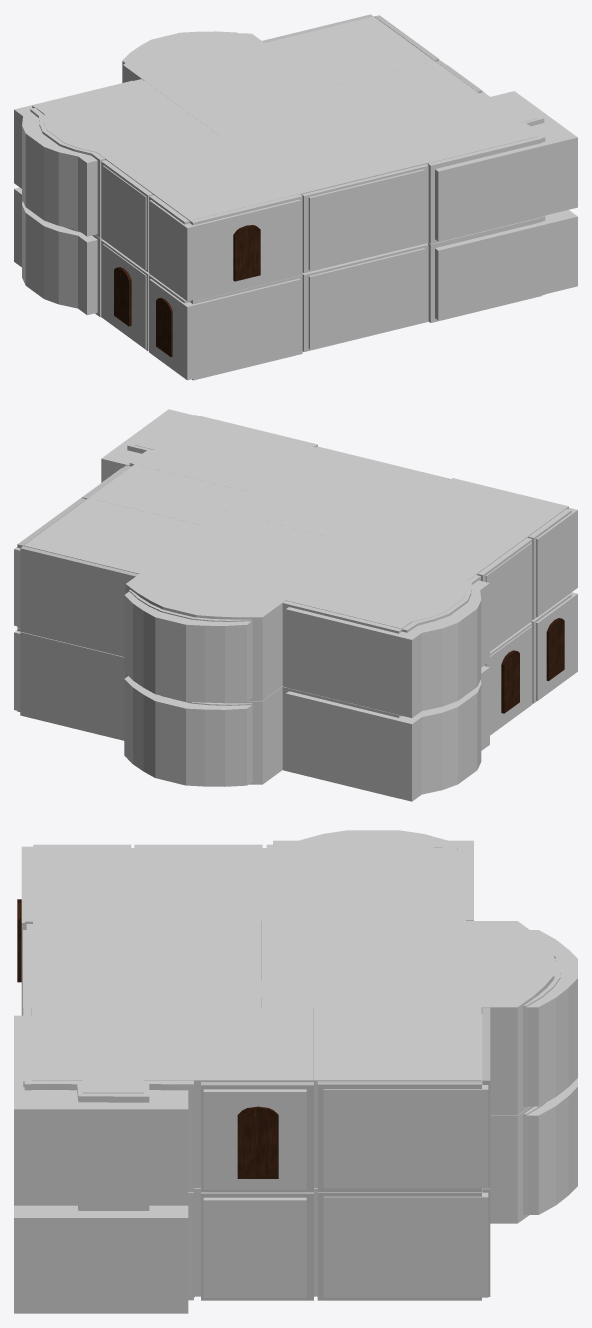
File: dom z dziurami na okna drzwi i schody.fbx
3 renders of one model, top to bottom at view 1: azimuth 30°, elevation 25°; view 2: azimuth 150°, elevation 25°; view 3: azimuth 270°, elevation 25°, orthographic. The views are drawn at different scales.
Visible parts, largest first — view 1: Salon.001, Bathroom hole (always inactive).001, Corridor.001, Bathroom hole (always inactive), Maids room hole (always inactive), Maids room hole (always inactive).001, Corridor hole (always inactive), Corridor hole (always inactive).001, Dining room.001, Dining hole (always inactive).001, Bathroom.001, Kitchen.001 (+20 smaller); view 2: Salon.001, Dining hole (always inactive).001, Dining hole (always inactive), Corridor.001, Salon hole (always inactive).001, Salon hole (always inactive), Dining room.001, Kitchen back wall.001, Kitchen back wall, Bathroom.001, Kitchen.001, Guest room.001 (+19 smaller); view 3: Salon.001, Bathroom hole (always inactive).001, Corridor.001, Bathroom hole (always inactive), Kitchen hole (always inactive), Kitchen hole (always inactive).001, Dining room.001, Bathroom.001, Kitchen.001, Storage hole (always inactive), Guest room.001, Storage.001 (+19 smaller).
Part boxes in pixels (<box>): Salon.001: <box>123,33,344,133</box>; Bathroom hole (always inactive).001: <box>435,91,577,241</box>; Corridor.001: <box>217,102,428,194</box>; Bathroom hole (always inactive): <box>435,210,577,320</box>; Maids room hole (always inactive): <box>149,278,300,380</box>; Maids room hole (always inactive).001: <box>149,199,300,301</box>; Corridor hole (always inactive): <box>308,248,425,349</box>; Corridor hole (always inactive).001: <box>308,169,425,270</box>; Dining room.001: <box>35,81,215,159</box>; Dining hole (always inactive).001: <box>14,80,132,236</box>; Bathroom.001: <box>369,93,537,163</box>; Kitchen.001: <box>265,16,434,87</box>; Salon.001: <box>125,511,361,700</box>; Dining hole (always inactive).001: <box>286,580,489,717</box>; Dining hole (always inactive): <box>286,666,489,801</box>; Corridor.001: <box>225,446,449,544</box>; Salon hole (always inactive).001: <box>124,591,252,702</box>; Salon hole (always inactive): <box>124,676,252,786</box>; Dining room.001: <box>286,545,476,628</box>; Kitchen back wall.001: <box>20,546,138,656</box>; Kitchen back wall: <box>20,632,125,740</box>; Bathroom.001: <box>135,418,313,492</box>; Kitchen.001: <box>23,498,203,573</box>; Guest room.001: <box>361,508,528,575</box>; Salon.001: <box>261,921,554,1115</box>; Bathroom hole (always inactive).001: <box>14,1015,188,1205</box>; Corridor.001: <box>33,921,260,1007</box>; Bathroom hole (always inactive): <box>14,1205,188,1313</box>; Kitchen hole (always inactive): <box>323,1188,488,1297</box>; Kitchen hole (always inactive).001: <box>323,1014,488,1188</box>; Dining room.001: <box>262,838,457,920</box>; Bathroom.001: <box>31,1007,194,1188</box>; Kitchen.001: <box>314,1007,481,1188</box>; Storage hole (always inactive): <box>203,1197,306,1297</box>; Guest room.001: <box>130,848,262,980</box>; Storage.001: <box>195,1007,313,1188</box>.
Size of the model in its own units: 1690 by 619 by 1458.
